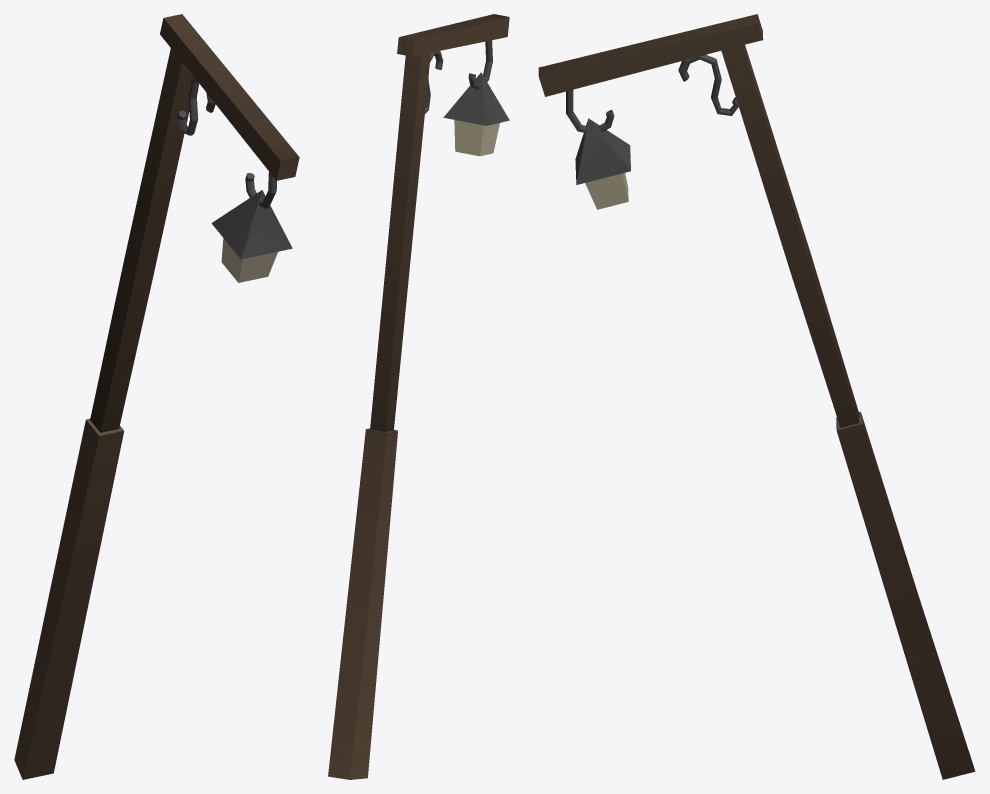
Rendered from ea_exterior_lamp_wooden_01a_pre__7__lev1.glb.
The picture shows the model from 3 angles, left to right: view 1: azimuth 30°, elevation 25°; view 2: azimuth 150°, elevation 25°; view 3: azimuth 270°, elevation 25°; orthographic projection. The views are drawn at different scales.
Parts seen in each view (by area): view 1: ea_exterior_lamp_wooden_01a_pre__7__lev1; view 2: ea_exterior_lamp_wooden_01a_pre__7__lev1; view 3: ea_exterior_lamp_wooden_01a_pre__7__lev1.
Part boxes in pixels (x1,y1,x2,y2): ea_exterior_lamp_wooden_01a_pre__7__lev1: (14,14,299,779); ea_exterior_lamp_wooden_01a_pre__7__lev1: (328,14,509,779); ea_exterior_lamp_wooden_01a_pre__7__lev1: (538,14,975,779).
Size of the model in its own units: 0.3827 by 4.07 by 2.09.
1 material, 1 textured.
